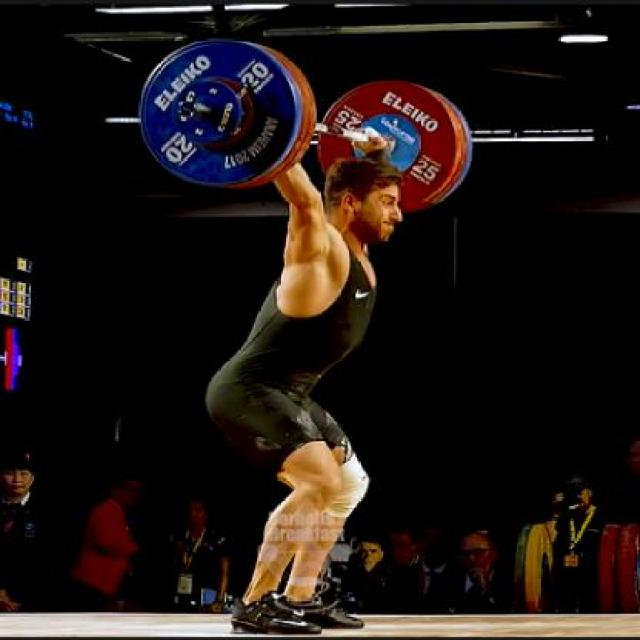Barbell: (174, 95, 200, 123)
